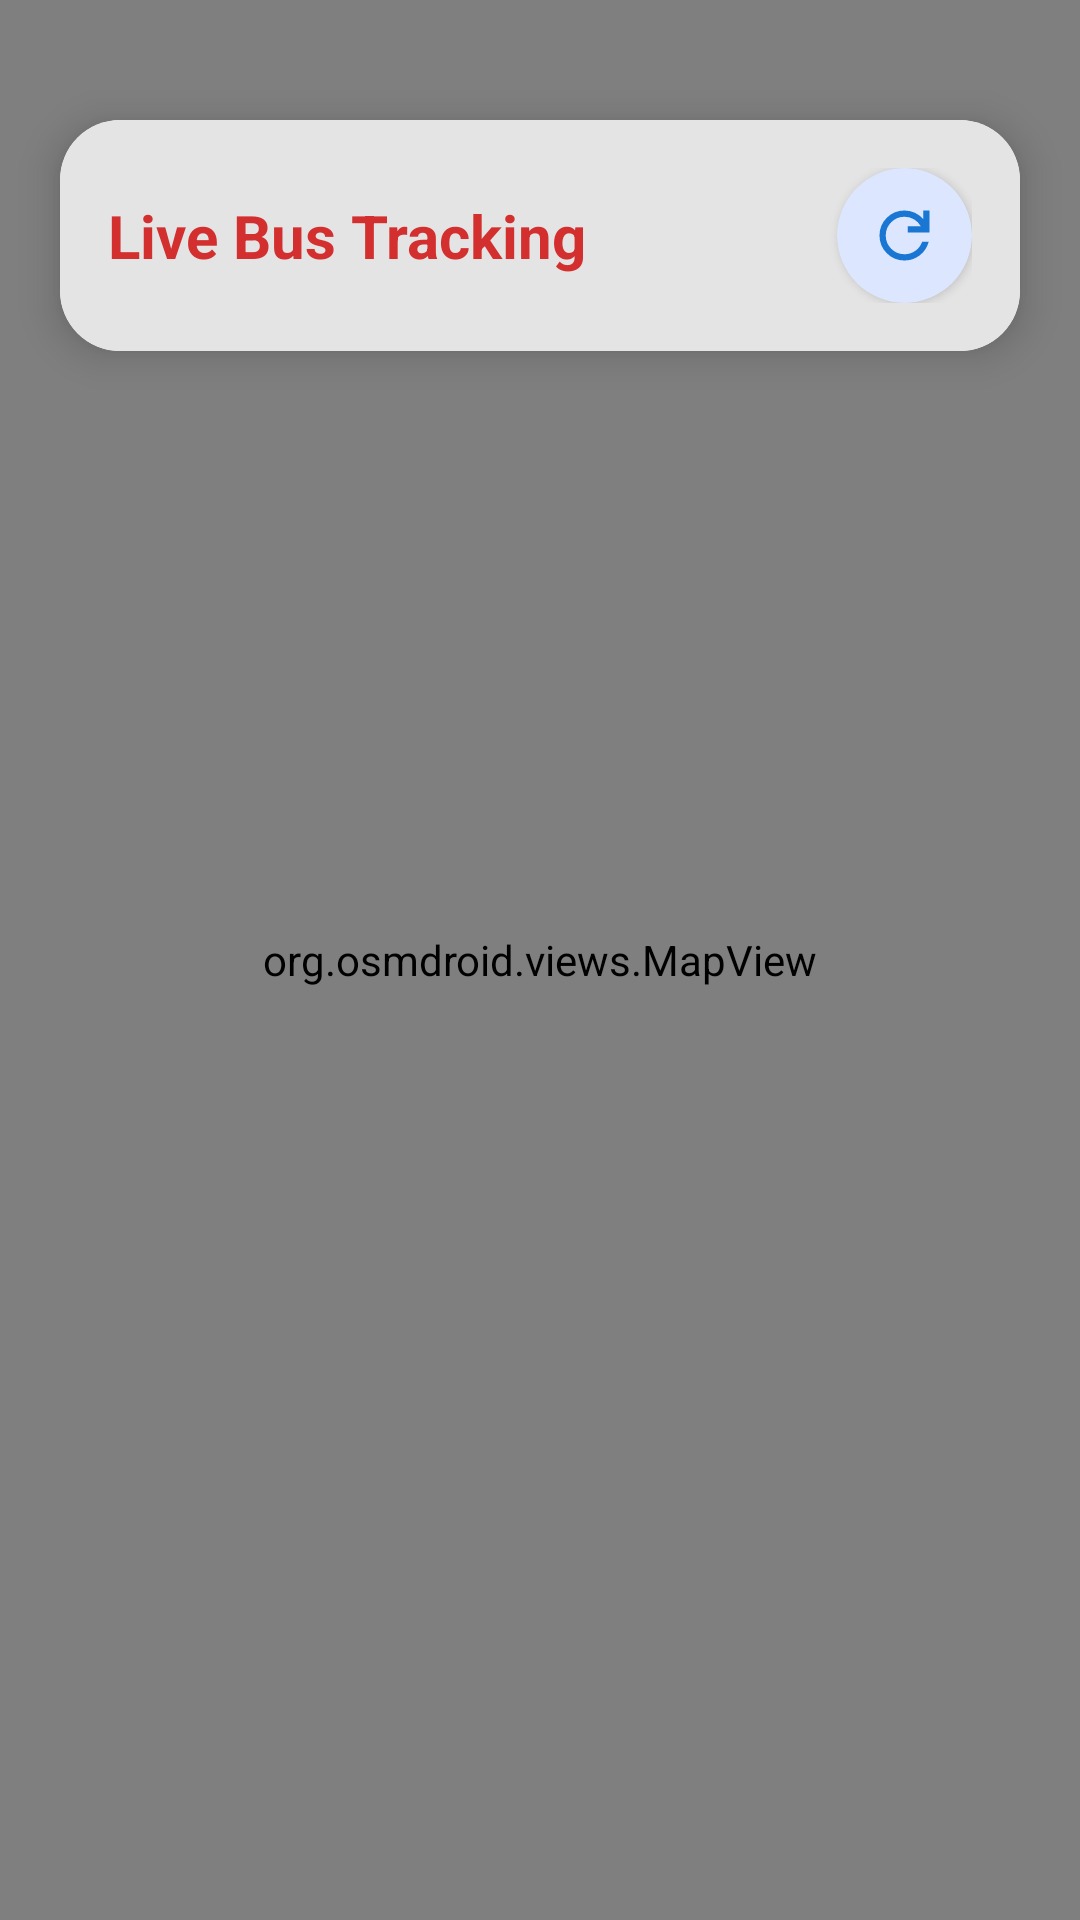

Screen size 1080px x 1920px. Icon name, then its center in pixels as (x,y):
refresh: (904,235)
